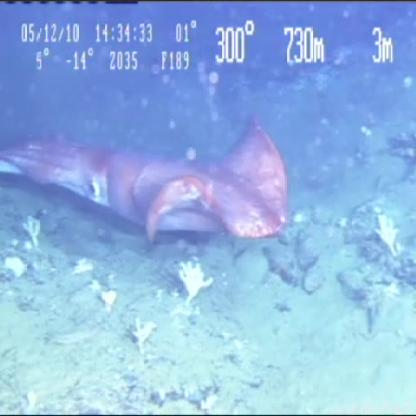Bio: (1, 110, 292, 250), (172, 257, 216, 305), (18, 210, 44, 253), (131, 316, 158, 354)
